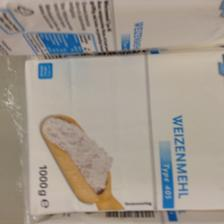Mehl: (21, 48, 222, 218)
